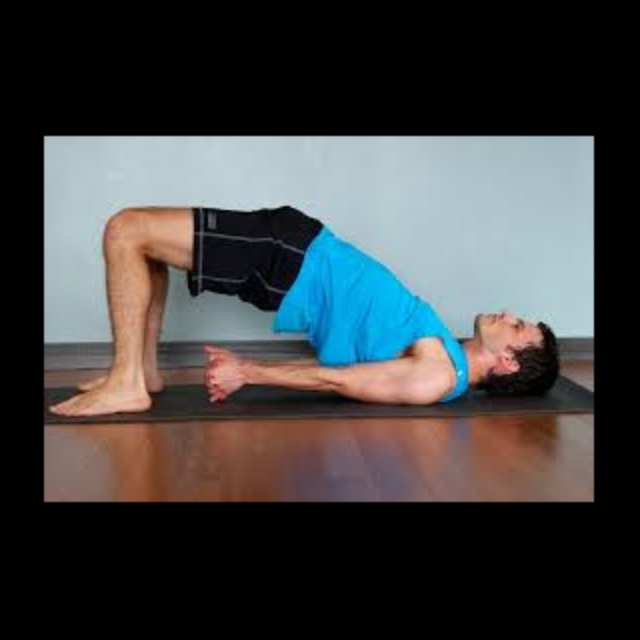Bridge_Pose: (47, 191, 574, 424)
